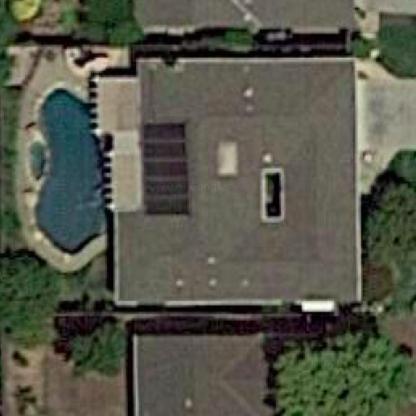solar_panel: (136, 101, 197, 234)
swimming_pool: (11, 65, 121, 279)
